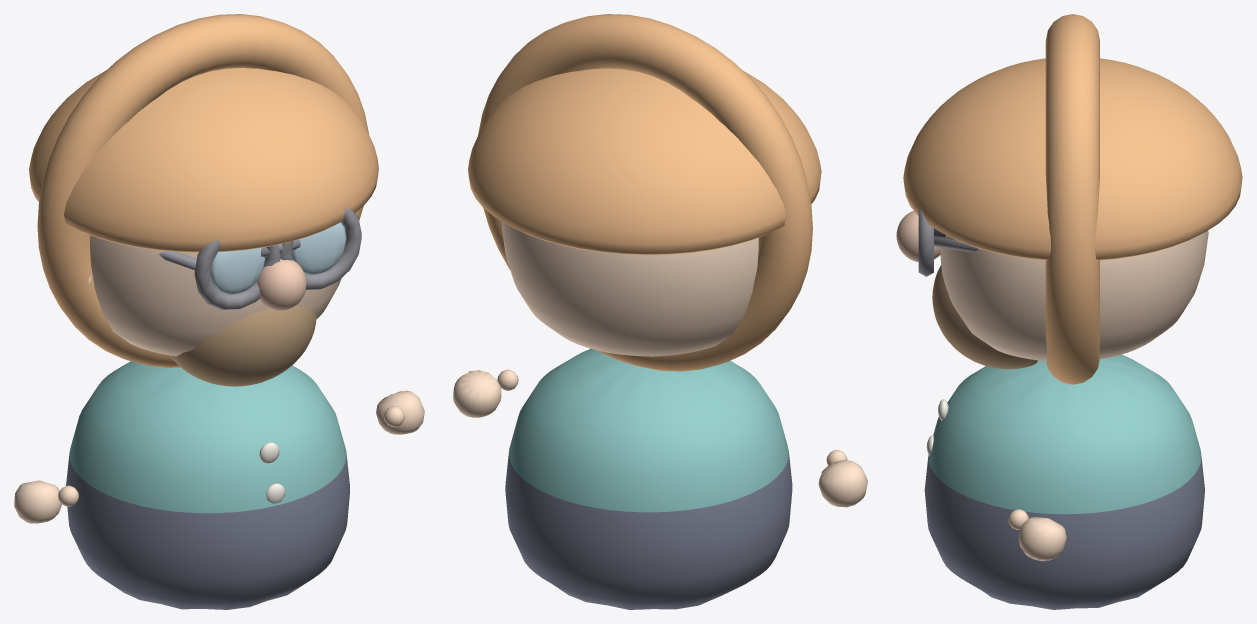
Rendered from Pedestrian_Hipster.fbx.
3 views of the same model, side by side, from view 1: azimuth 30°, elevation 25°; view 2: azimuth 150°, elevation 25°; view 3: azimuth 270°, elevation 25° (orthographic). The views are drawn at different scales.
Parts seen in each view (by area): view 1: PedBody, PedHat, PedBrim, PedHead, PedBeard, PedGlassL, PedNose, PedGlassLLens, PedGlassRLens, PedGlassR, PedHandL, PedHandR; view 2: PedBody, PedHat, PedBrim, PedHead, PedHandR, PedHandL; view 3: PedBody, PedHat, PedBrim, PedHead, PedBeard, PedHandR, PedNose, PedGlassR.
Boxes of the visible parts, x1,y1,x2,y2 form: PedBody: (66,361,349,609); PedHat: (29,68,378,252); PedBrim: (37,14,368,367); PedHead: (90,235,341,356); PedBeard: (170,305,316,386); PedGlassL: (194,239,280,309); PedNose: (257,259,306,310); PedGlassLLens: (210,248,265,294); PedGlassRLens: (291,222,346,274); PedGlassR: (280,208,361,290); PedHandL: (14,480,61,523); PedHandR: (376,390,424,434); PedBody: (505,348,792,609); PedHat: (468,68,821,255); PedBrim: (478,14,812,371); PedHead: (502,221,758,356); PedHandR: (453,370,501,417); PedHandL: (818,460,867,507); PedBody: (924,354,1204,609); PedHat: (903,58,1242,260); PedBrim: (1045,14,1099,384); PedHead: (940,230,1208,361); PedBeard: (932,265,1037,369); PedHandR: (1018,517,1066,561); PedNose: (896,211,940,261); PedGlassR: (918,205,933,276).
Size of the model in its own units: 115 by 150 by 86.22.
